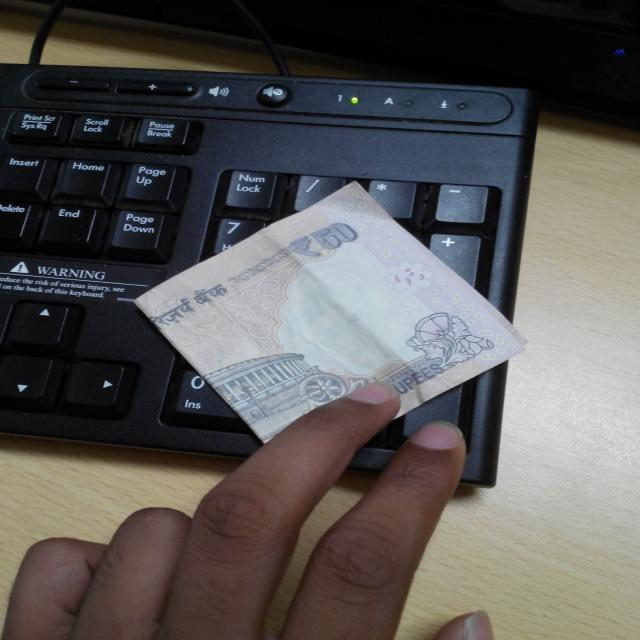50rs: (137, 175, 544, 468)
